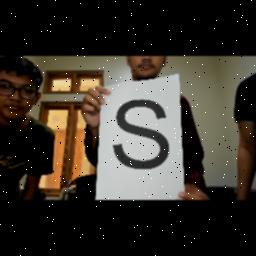s: (106, 94, 178, 182)
